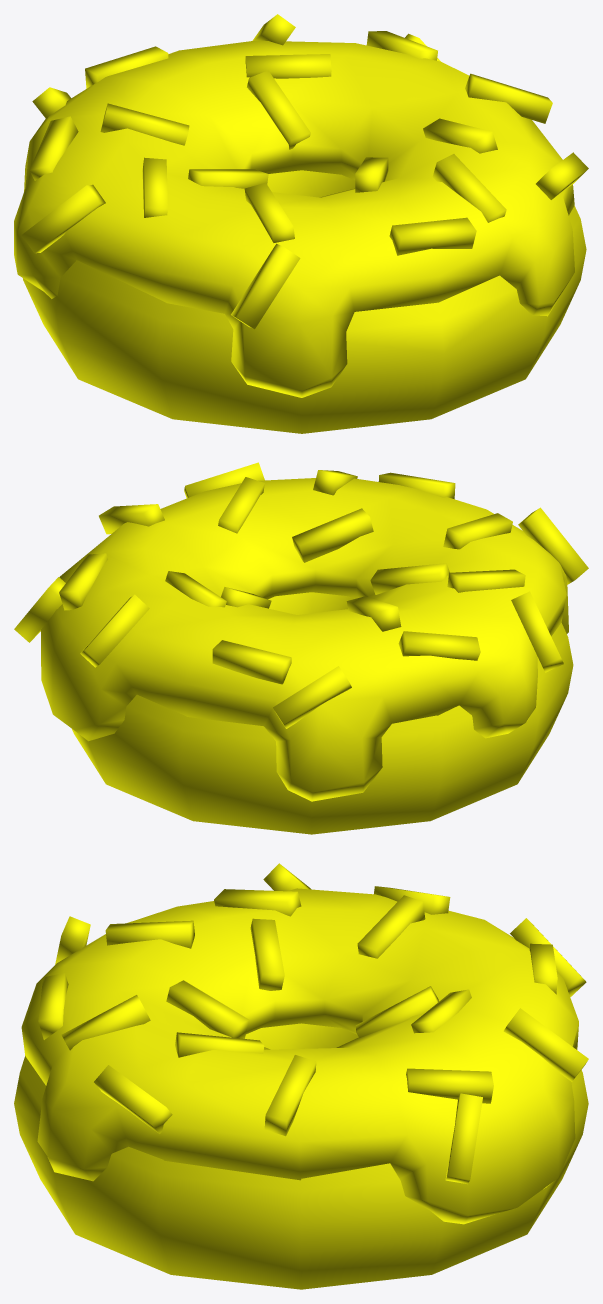
3 renders of one model, top to bottom at view 1: azimuth 30°, elevation 25°; view 2: azimuth 150°, elevation 25°; view 3: azimuth 270°, elevation 25°, orthographic. The views are drawn at different scales.
Parts seen in each view (by area): view 1: m_Donut04; view 2: m_Donut04; view 3: m_Donut04.
Part boxes in pixels (x1,y1,x2,y2): m_Donut04: [14, 14, 588, 433]; m_Donut04: [14, 462, 588, 834]; m_Donut04: [14, 863, 588, 1289].
Bounding box in the file's own units: 0.1289 × 0.0572 × 0.1217.
Materials: 1 (1 with a texture image).
